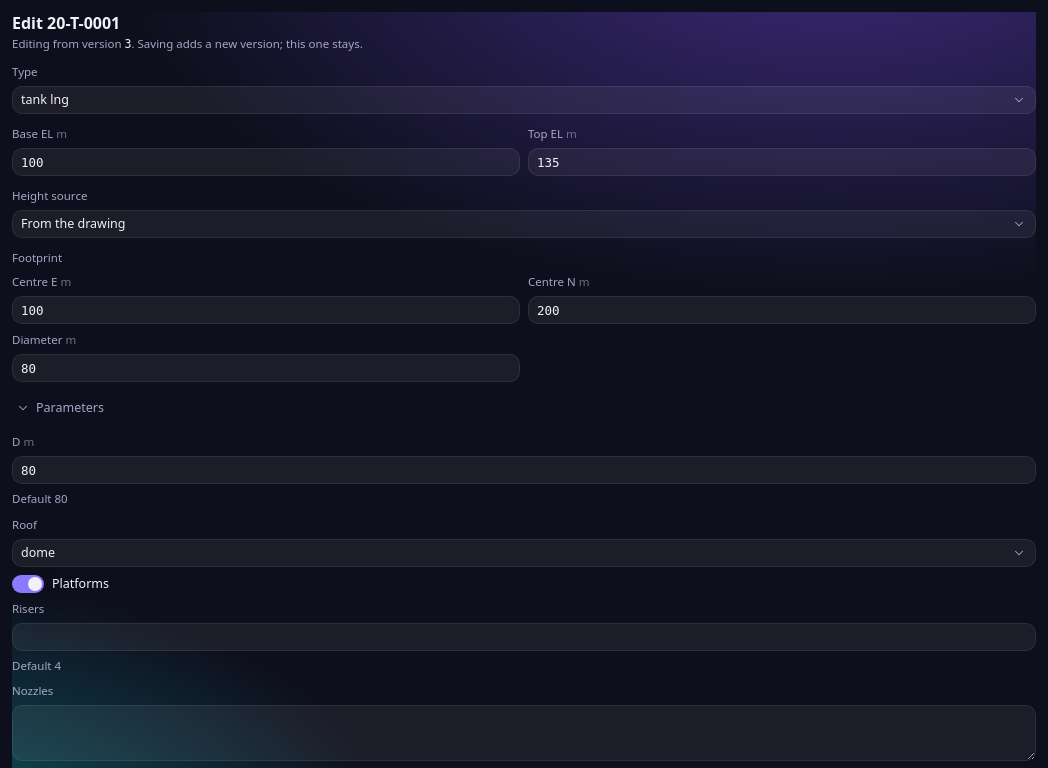
ItemEditor › a new type says the old params go
Select "other" in the dropdown labelled "Type" at point(524, 100), box [12,86,1036,114]
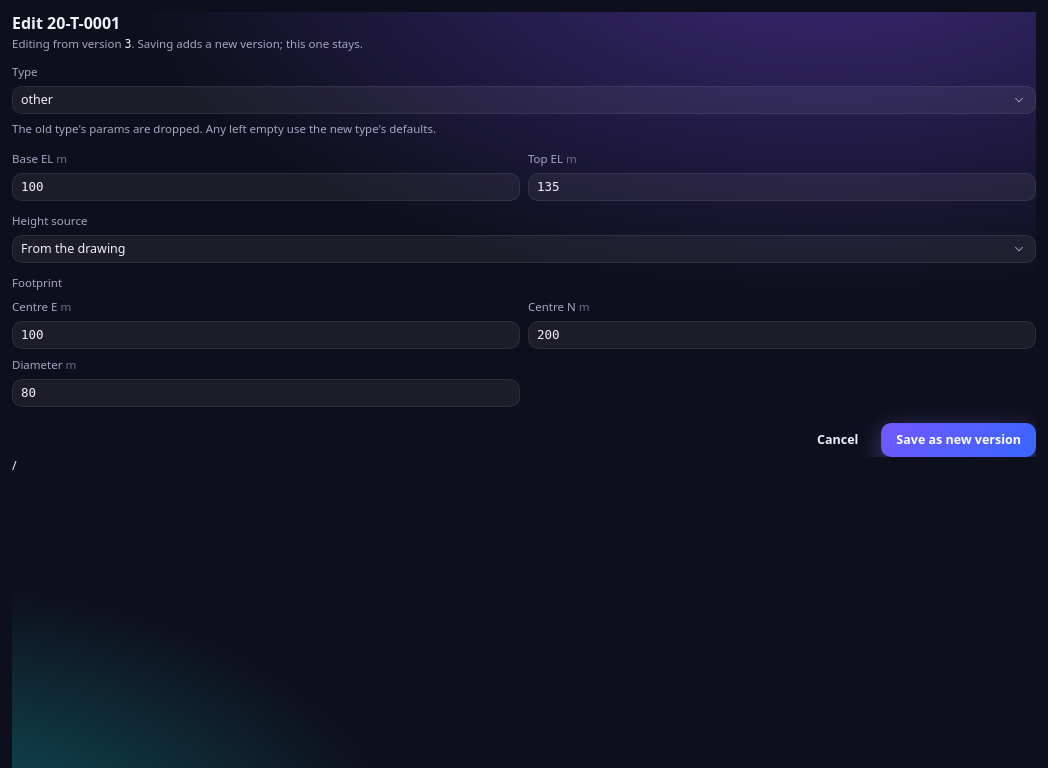
Now the text "The old type's params are dropped" is shown, box [12,121,436,136]
Now the label labelled "Roof" is gone
